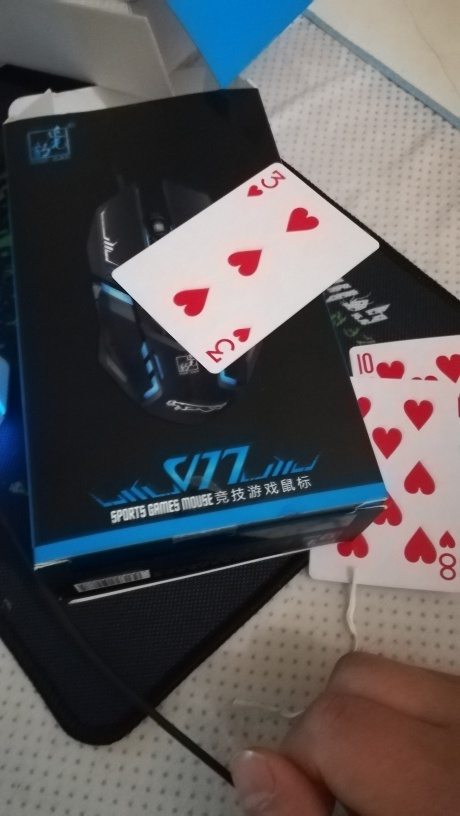hx 3: (108, 161, 358, 367)
